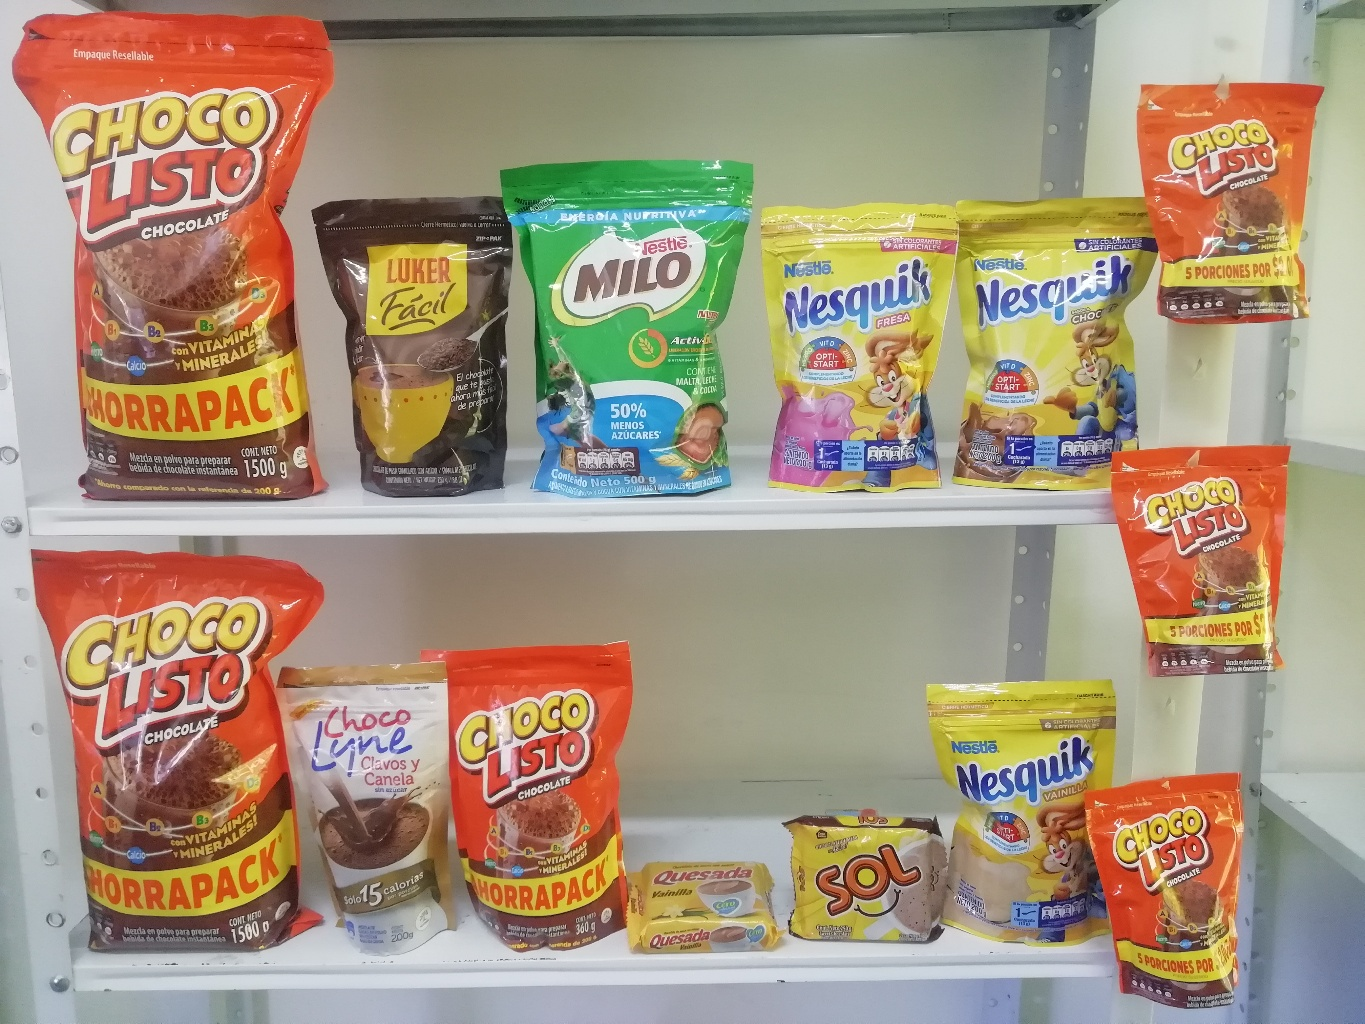COL0170103DYP1,500: (12, 12, 337, 500)
COL0170103DYP36000: (418, 645, 640, 954)
COL0170205DYP50000: (495, 161, 755, 498)
COL0170303DYP20000: (957, 195, 1158, 490)
COL0170305DYP20000: (759, 203, 958, 494)
COL0170306DYP20000: (928, 680, 1126, 942)
